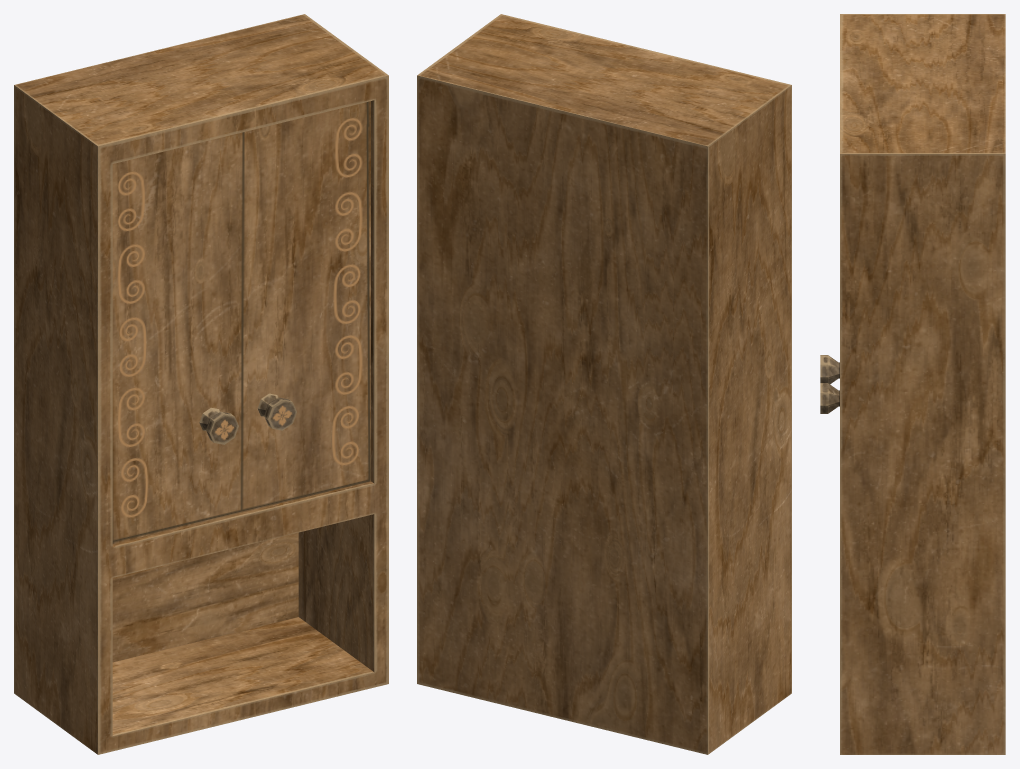
Rendered from closet.glb.
3 renders of one model, left to right at view 1: azimuth 30°, elevation 25°; view 2: azimuth 150°, elevation 25°; view 3: azimuth 270°, elevation 25°, orthographic.
Parts seen in each view (by area): view 1: closet; view 2: closet; view 3: closet.
Part boxes in pixels (bbox=[...]): closet: bbox=[14, 14, 388, 754]; closet: bbox=[417, 14, 791, 754]; closet: bbox=[820, 14, 1005, 754].
Size of the model in its own units: 1 by 2 by 0.56.
Materials: 1 (1 with a texture image).
